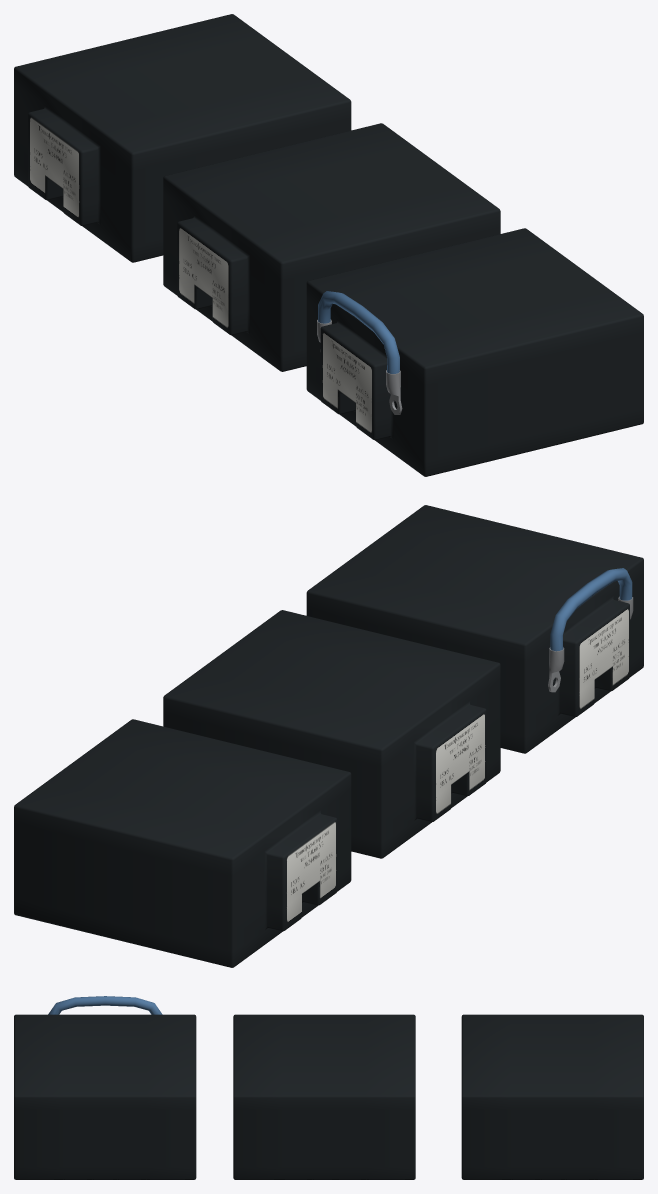
3 views of the same model, one above another, from view 1: azimuth 30°, elevation 25°; view 2: azimuth 150°, elevation 25°; view 3: azimuth 270°, elevation 25° (orthographic). The views are drawn at different scales.
Visible parts, largest first — view 1: TT.005, TT.004, TT.003, Obj_TT_tube; view 2: TT.004, TT.003, TT.005, Obj_TT_tube; view 3: TT.004, TT.005, TT.003, Obj_TT_tube.
Part boxes in pixels (x1,y1,x2,y2): TT.005: (306,228,643,476); TT.004: (14,14,351,262); TT.003: (163,123,500,371); Obj_TT_tube: (318,291,399,373); TT.004: (14,719,351,967); TT.003: (163,610,500,858); TT.005: (306,505,643,753); Obj_TT_tube: (550,568,632,651); TT.004: (461,1014,643,1179); TT.005: (14,1014,196,1179); TT.003: (233,1014,415,1179); Obj_TT_tube: (48,996,162,1014).
Size of the model in its own units: 11.9 by 6.22 by 35.59.
1 material, 1 textured.
